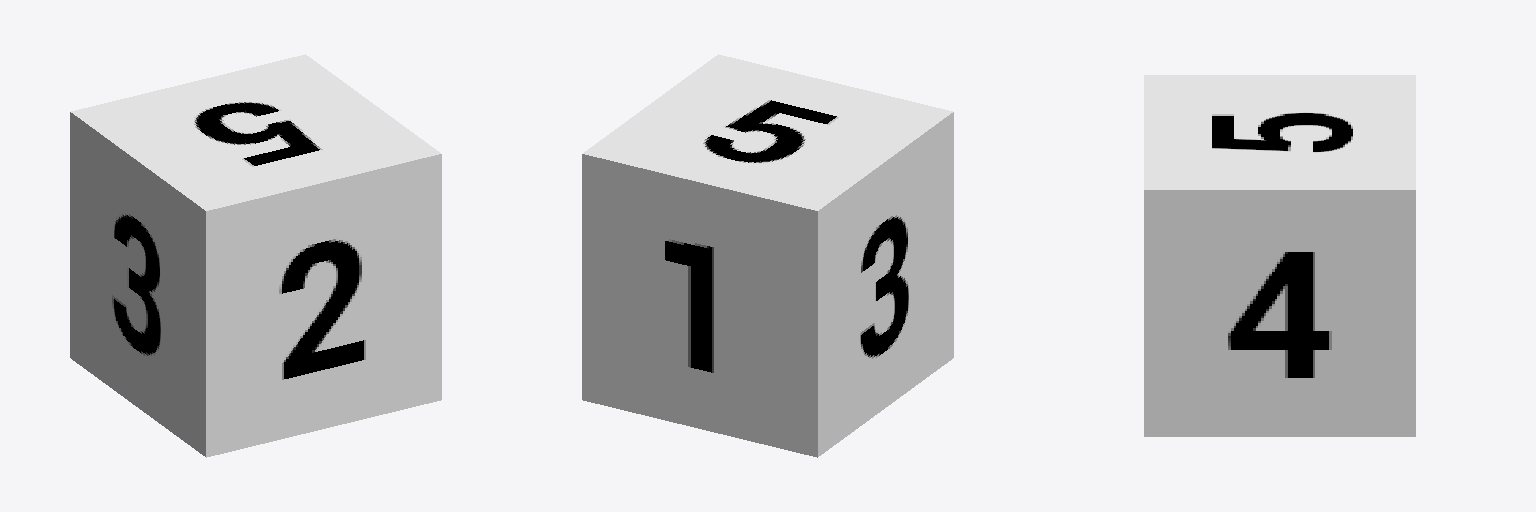
3 renders of one model, left to right at view 1: azimuth 30°, elevation 25°; view 2: azimuth 150°, elevation 25°; view 3: azimuth 270°, elevation 25°, orthographic.
Parts seen in each view (by area): view 1: Dice; view 2: Dice; view 3: Dice.
Boxes of the visible parts, box(x1,y1,x2,y2) form: Dice: box(70, 54, 441, 457); Dice: box(582, 54, 953, 457); Dice: box(1144, 75, 1415, 436).
Bounding box in the file's own units: 1 × 1 × 1.
6 materials, 6 textured.